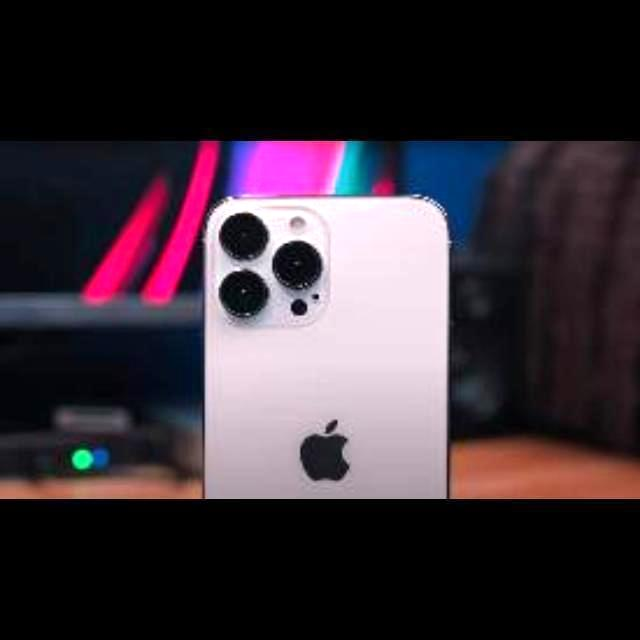lens_back: (216, 207, 274, 266), (269, 238, 327, 294), (218, 266, 271, 323)
phone: (203, 195, 447, 499)
